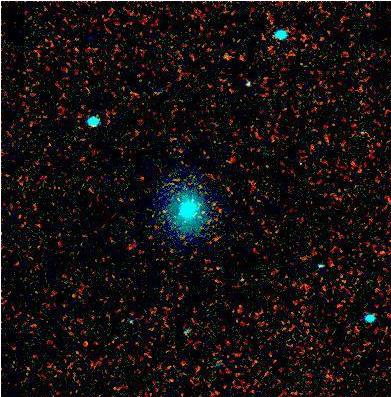star: (212, 42, 242, 72)
